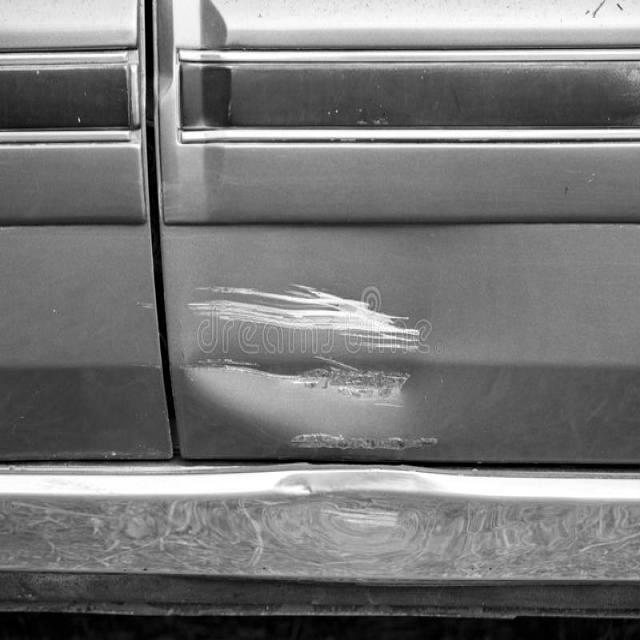Runningboard-Damage: (68, 469, 619, 588)
doorouter-dent: (165, 231, 490, 468)
